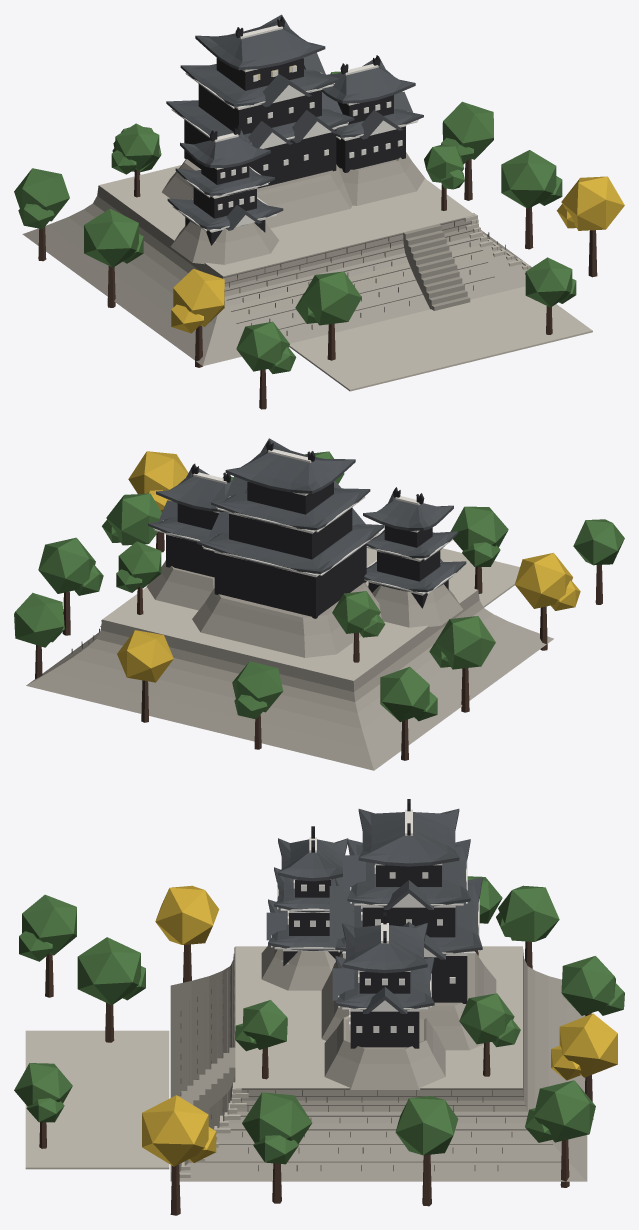
The model's file is kumamoto-castle.glb.
3 renders of one model, top to bottom at view 1: azimuth 30°, elevation 25°; view 2: azimuth 150°, elevation 25°; view 3: azimuth 270°, elevation 25°, orthographic. The views are drawn at different scales.
Parts seen in each view (by area): view 1: kumamoto_stone, kumamoto_pave, kumamoto_leaf, kumamoto_tile, kumamoto_black, kumamoto_ginkgo, kumamoto_white, kumamoto_bark, kumamoto_joint; view 2: kumamoto_stone, kumamoto_leaf, kumamoto_tile, kumamoto_black, kumamoto_pave, kumamoto_ginkgo, kumamoto_bark, kumamoto_white; view 3: kumamoto_stone, kumamoto_pave, kumamoto_leaf, kumamoto_tile, kumamoto_black, kumamoto_ginkgo, kumamoto_bark, kumamoto_joint, kumamoto_white.
Part boxes in pixels (x1,y1,x2,y2): kumamoto_stone: [22, 152, 531, 365]; kumamoto_pave: [99, 165, 592, 391]; kumamoto_leaf: [14, 71, 576, 373]; kumamoto_tile: [166, 14, 423, 230]; kumamoto_black: [184, 16, 405, 245]; kumamoto_ginkgo: [171, 176, 624, 333]; kumamoto_white: [171, 25, 418, 243]; kumamoto_bark: [38, 158, 597, 409]; kumamoto_joint: [223, 218, 515, 335]; kumamoto_stone: [26, 560, 553, 770]; kumamoto_leaf: [14, 451, 624, 721]; kumamoto_tile: [148, 438, 466, 592]; kumamoto_black: [166, 440, 448, 618]; kumamoto_pave: [102, 548, 519, 680]; kumamoto_ginkgo: [117, 451, 580, 682]; kumamoto_bark: [35, 532, 602, 760]; kumamoto_white: [153, 449, 461, 595]; kumamoto_stone: [170, 945, 587, 1181]; kumamoto_pave: [25, 946, 522, 1177]; kumamoto_leaf: [14, 876, 624, 1164]; kumamoto_tile: [266, 808, 482, 1013]; kumamoto_black: [283, 799, 467, 1048]; kumamoto_ginkgo: [142, 885, 617, 1166]; kumamoto_bark: [39, 941, 593, 1215]; kumamoto_joint: [180, 947, 560, 1171]; kumamoto_white: [271, 809, 479, 1032].
Bounding box in the file's own units: 19.9 × 10.01 × 20.39.
